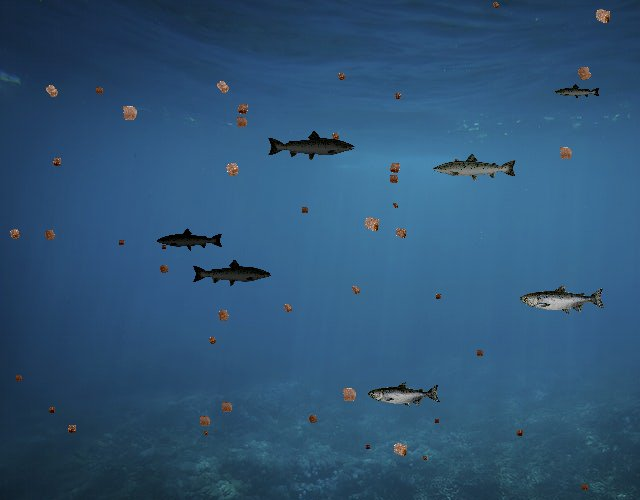Fish: (267, 129, 357, 162), (432, 152, 518, 183), (520, 284, 606, 315), (192, 259, 273, 288), (369, 382, 442, 408), (157, 228, 225, 252), (554, 84, 601, 101)
Pellet: (114, 98, 144, 128), (3, 223, 26, 245), (232, 98, 254, 120), (346, 280, 365, 299), (384, 170, 402, 188), (512, 426, 526, 440), (432, 291, 445, 304), (115, 237, 127, 249), (200, 428, 210, 438)
